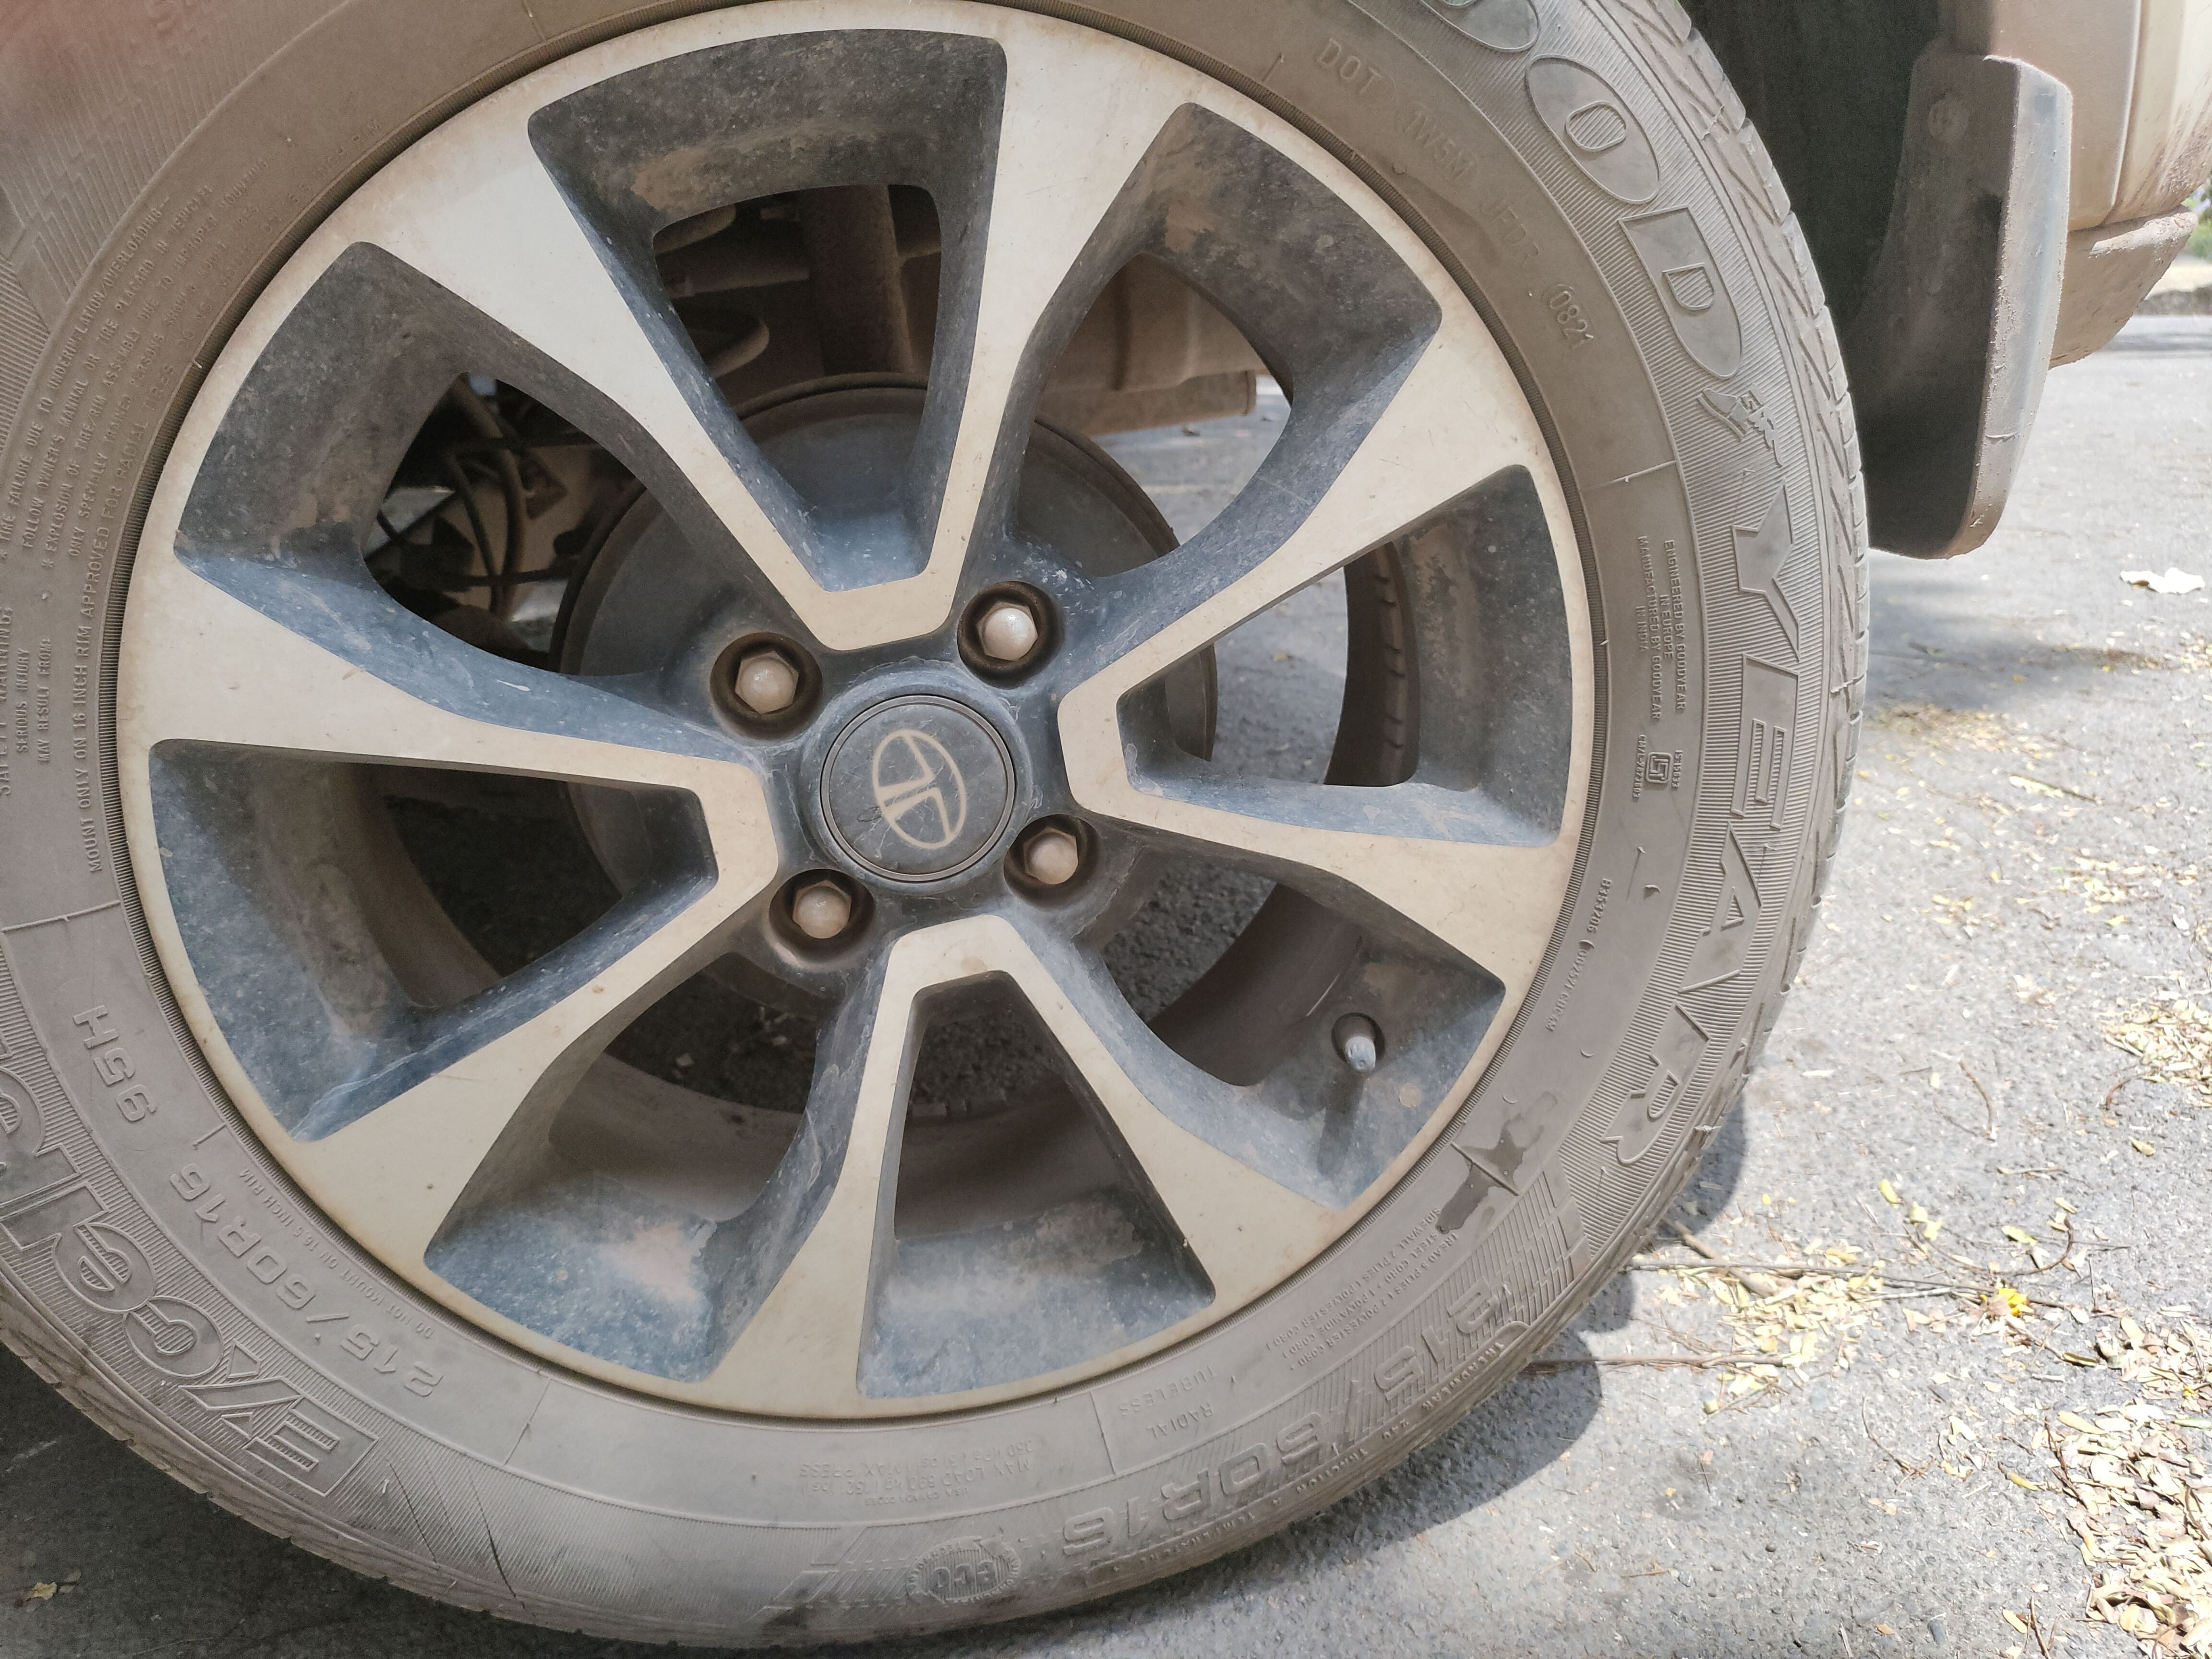l: (928, 573, 1069, 695), (698, 629, 833, 748), (993, 798, 1103, 925), (754, 857, 874, 962)
